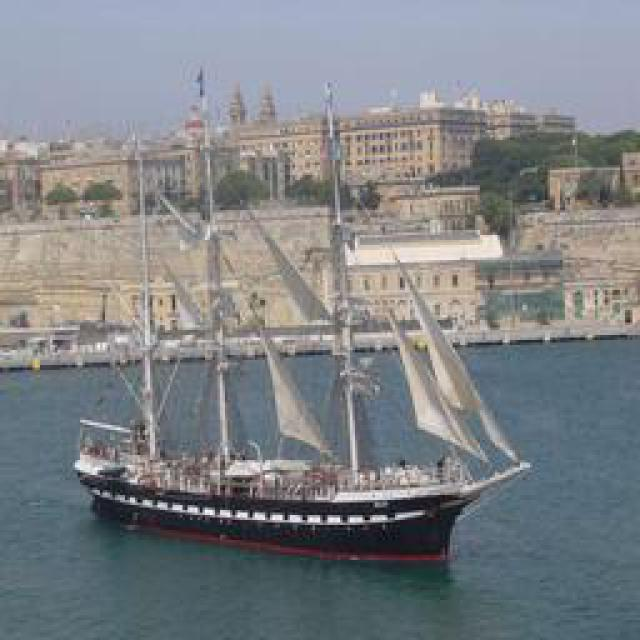Ship: (77, 268, 525, 563)
